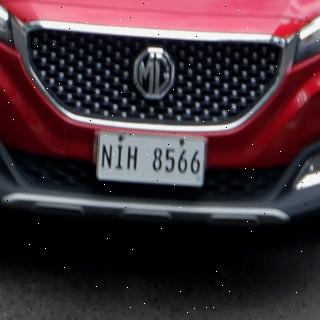license: (97, 133, 207, 187)
